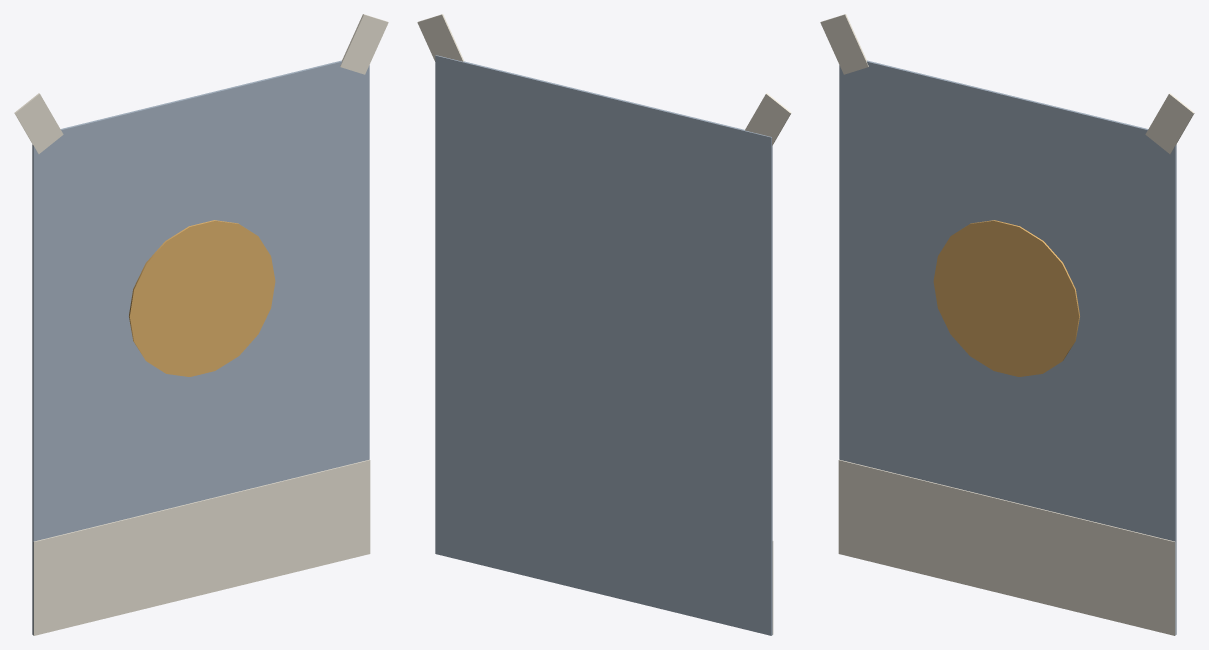
The model's file is poster-bedroom-2.gltf.
3 renders of one model, left to right at view 1: azimuth 30°, elevation 25°; view 2: azimuth 150°, elevation 25°; view 3: azimuth 330°, elevation 25°, orthographic.
Parts seen in each view (by area): view 1: sheet, band, Sun, tape_r, tape_l; view 2: sheet, tape_r, tape_l; view 3: sheet, band, Sun, tape_l, tape_r.
Boxes of the visible parts, bbox=[...] form: sheet: bbox=[32, 60, 369, 635]; band: bbox=[33, 459, 370, 635]; Sun: bbox=[129, 220, 275, 376]; tape_r: bbox=[340, 14, 388, 74]; tape_l: bbox=[14, 93, 63, 153]; sheet: bbox=[435, 55, 772, 635]; tape_r: bbox=[417, 14, 463, 61]; tape_l: bbox=[745, 93, 791, 145]; sheet: bbox=[839, 60, 1176, 635]; band: bbox=[838, 459, 1175, 635]; Sun: bbox=[933, 220, 1079, 376]; tape_l: bbox=[820, 14, 868, 74]; tape_r: bbox=[1145, 93, 1194, 153].
Size of the model in its own units: 0.0416 by 0.0576 by 0.000438.
